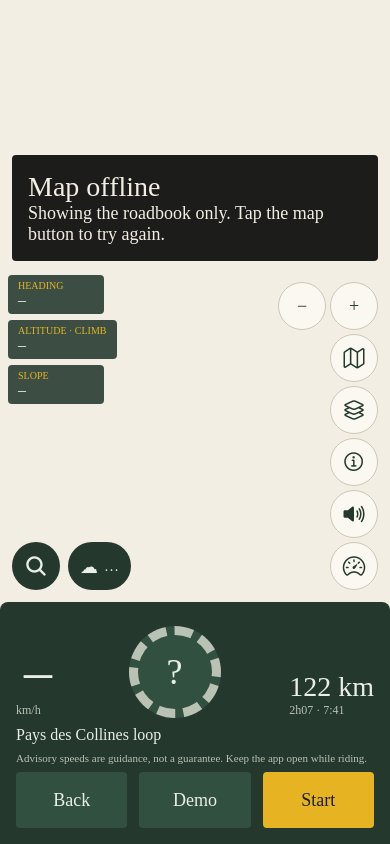
Test case: trying again once the network is back brings the map back
This screenshot has width=390, height=844.
Check: the text "Map offline" is shown, box [28,171,160,202]
Click the button named "Map: No map. Tap to change" at (354, 410), box [330,386,378,434]
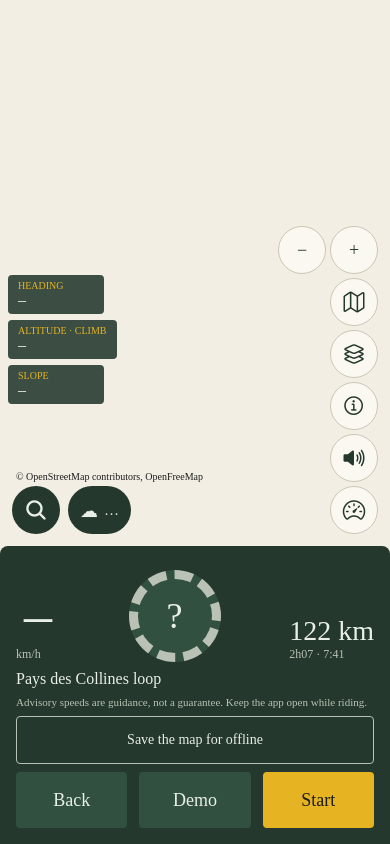
Check: the text "Map offline" is gone
Check: the button named "Map: Light. Tap to change" is shown, box [330,330,378,378]
